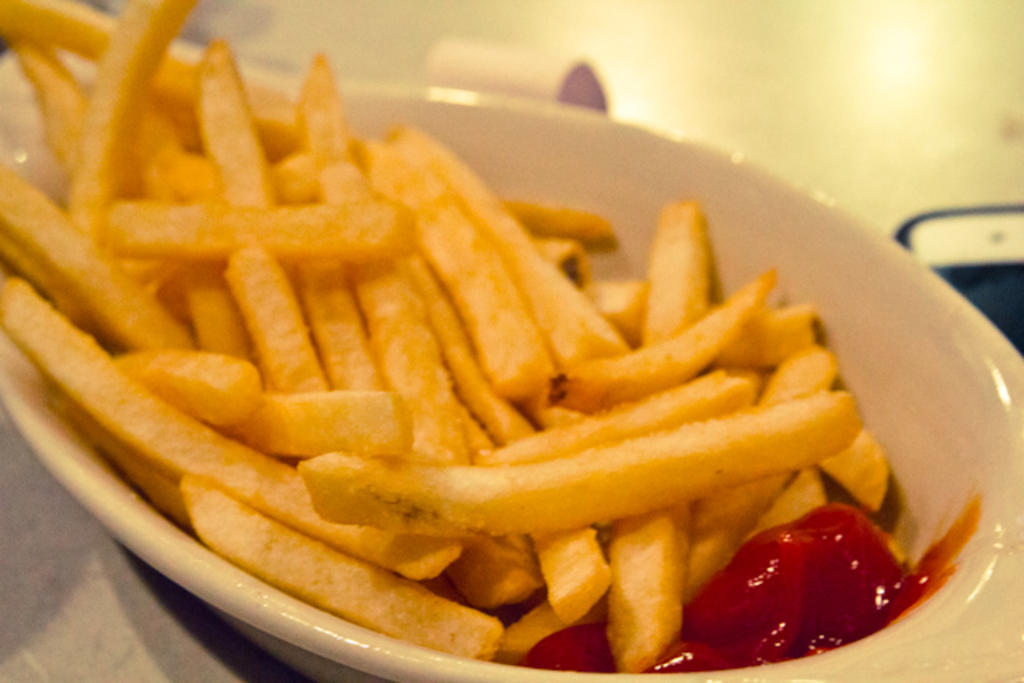French fries: (0, 0, 899, 681)
